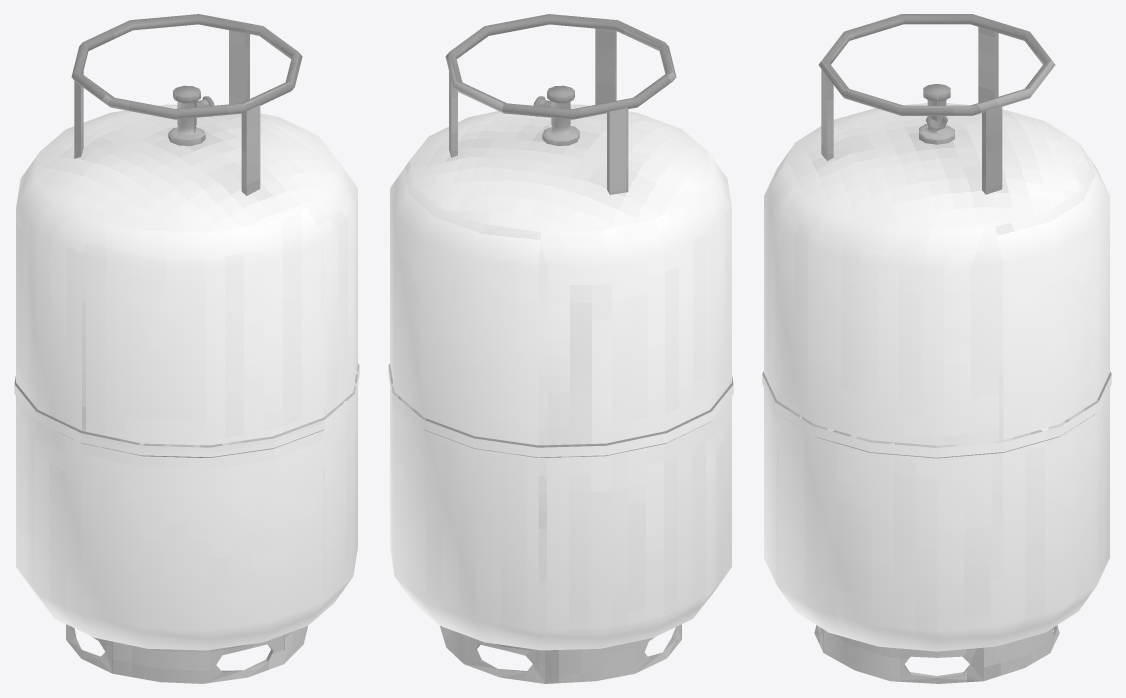
The model's file is GasCylinder.glb.
3 renders of one model, left to right at view 1: azimuth 30°, elevation 25°; view 2: azimuth 150°, elevation 25°; view 3: azimuth 270°, elevation 25°, orthographic.
Visible parts, largest first — view 1: GasCylinder; view 2: GasCylinder; view 3: GasCylinder.
Boxes of the visible parts, x1,y1,x2,y2 form: GasCylinder: (14,14,359,683); GasCylinder: (388,14,733,683); GasCylinder: (762,14,1111,683).
Bounding box in the file's own units: 0.2757 × 0.499 × 0.2757.
1 material, 1 textured.
